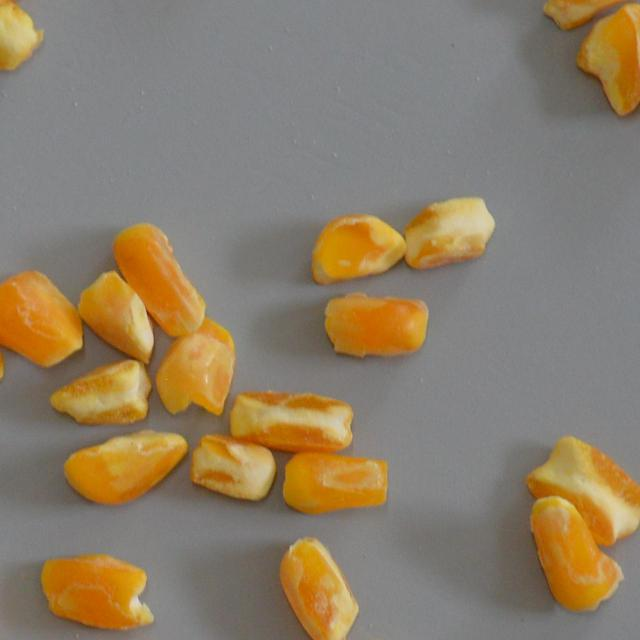pelicula: (522, 434, 640, 544), (528, 494, 623, 614), (110, 222, 206, 336), (59, 428, 187, 506), (38, 551, 156, 634), (276, 534, 360, 640), (0, 266, 84, 368), (226, 390, 354, 452), (574, 1, 640, 117), (153, 320, 234, 414), (322, 292, 431, 360), (403, 194, 495, 274), (280, 450, 390, 515), (46, 360, 151, 426), (310, 212, 404, 285), (188, 432, 276, 504), (540, 0, 640, 32), (0, 2, 44, 72)
